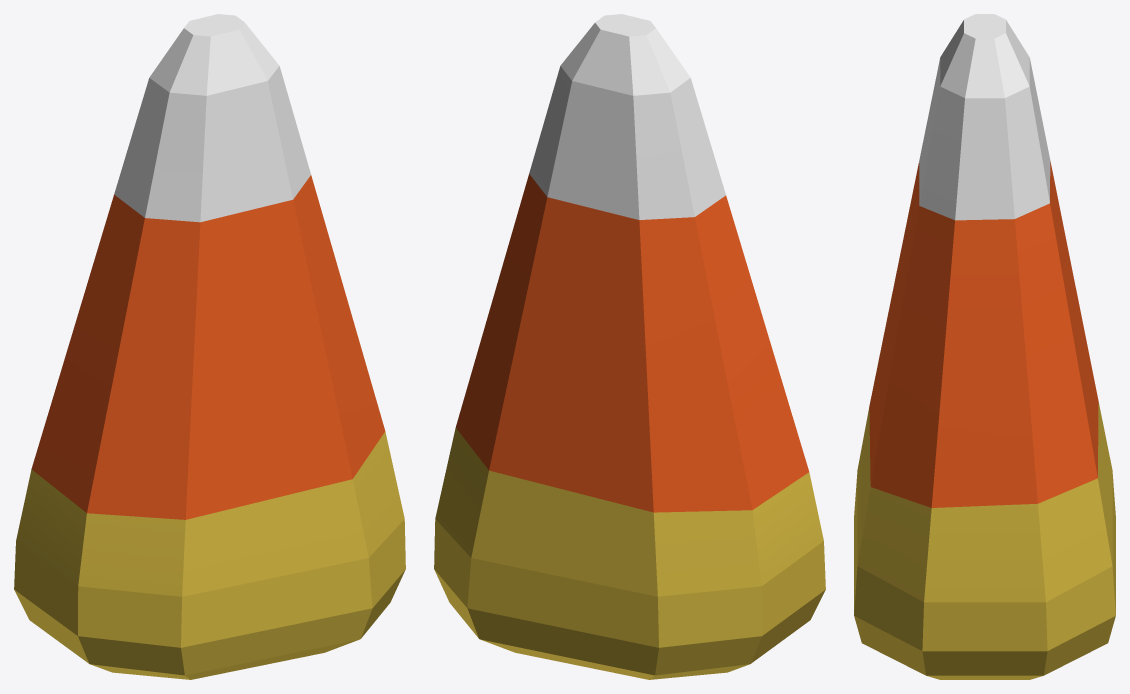
Rendered from candyCorn.fbx.
3 views of the same model, side by side, from view 1: azimuth 30°, elevation 25°; view 2: azimuth 150°, elevation 25°; view 3: azimuth 270°, elevation 25° (orthographic).
Parts seen in each view (by area): view 1: candyCorn; view 2: candyCorn; view 3: candyCorn.
Boxes of the visible parts, left/top/right/bottom form: candyCorn: left=14, top=14, right=405, bottom=679; candyCorn: left=434, top=14, right=825, bottom=679; candyCorn: left=854, top=14, right=1115, bottom=679.
Size of the model in its own units: 1.02 by 1.81 by 0.7197.
